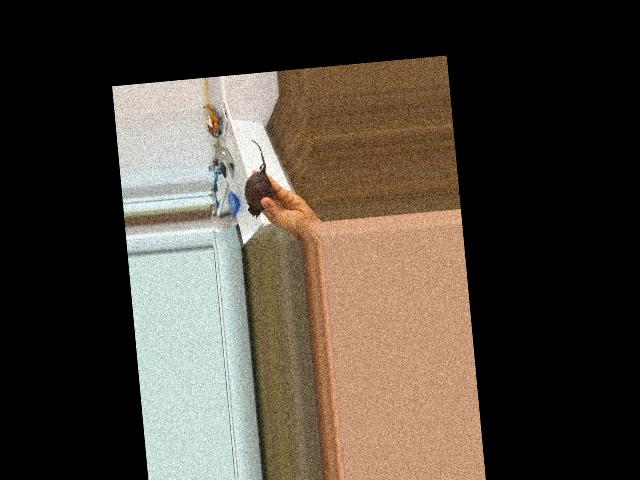beet: (240, 138, 274, 218)
